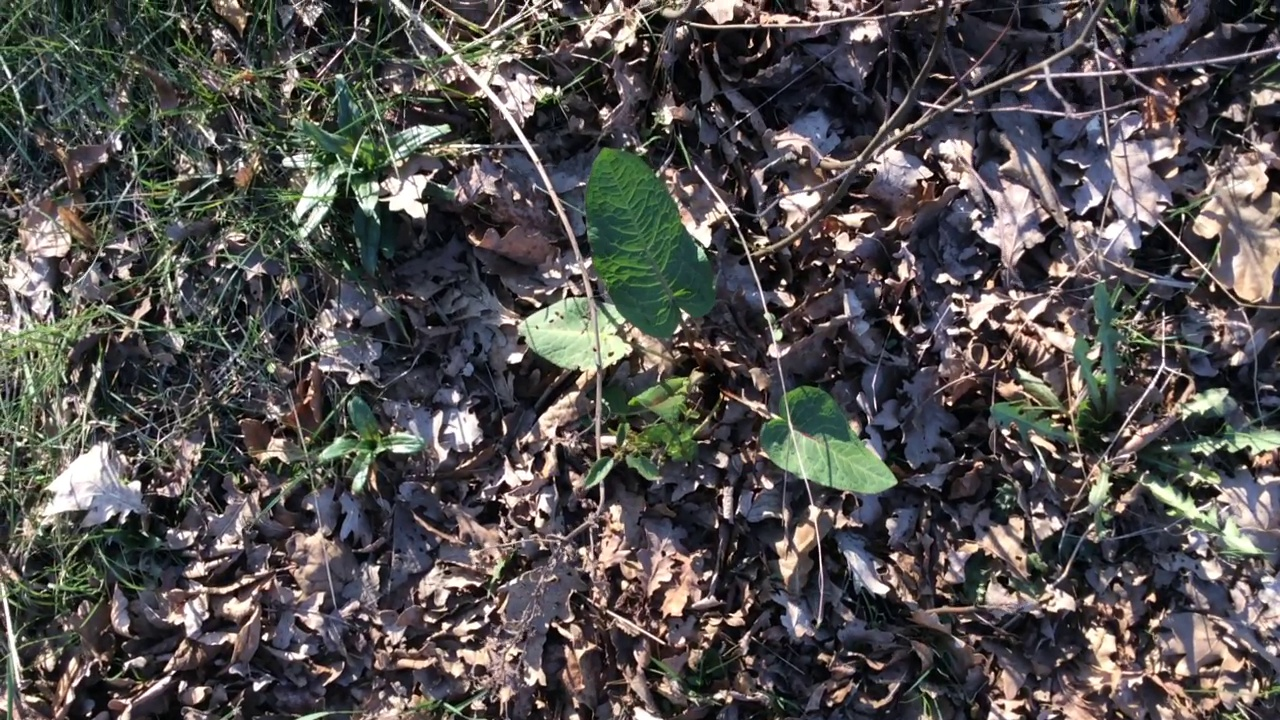rumex: (515, 149, 898, 496)
